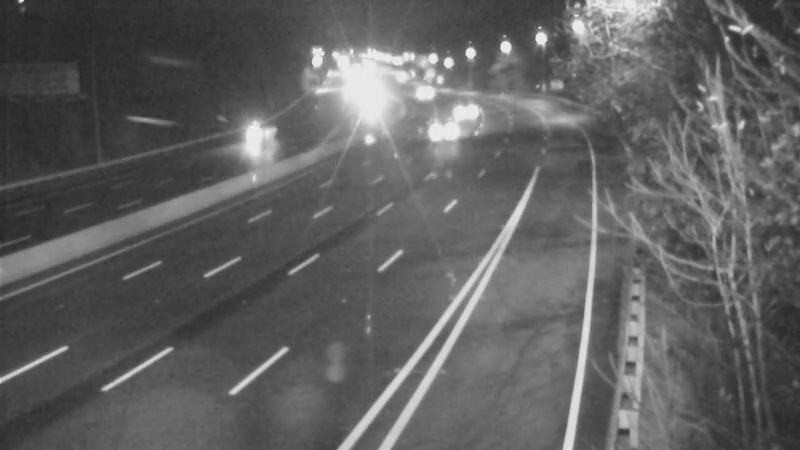vehicle: (406, 69, 456, 119), (440, 85, 490, 135), (420, 106, 470, 156), (229, 112, 279, 162)
